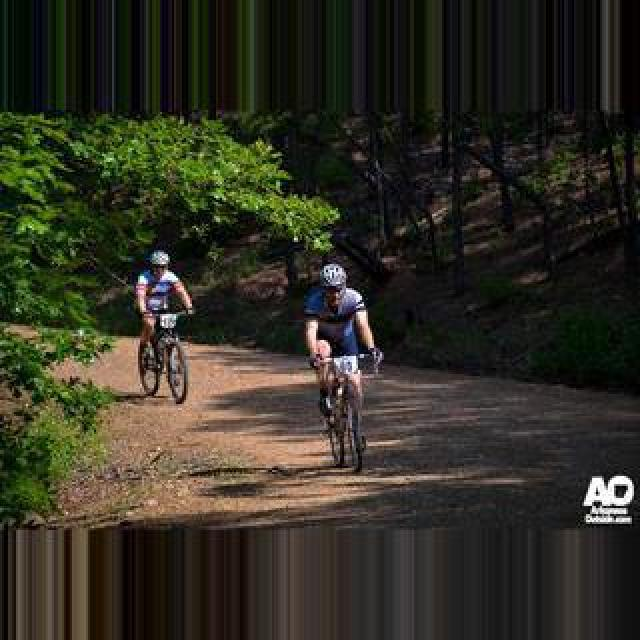MC-Bike: (302, 262, 382, 436), (134, 250, 194, 384)
Person: (309, 350, 369, 470), (137, 306, 191, 404)
